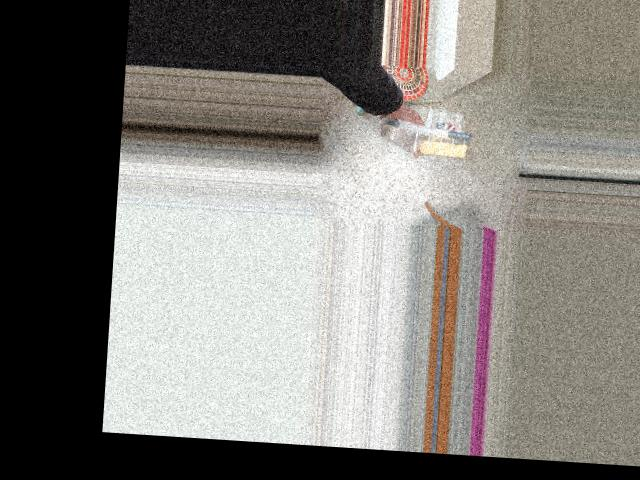cheese: (395, 72, 476, 183)
